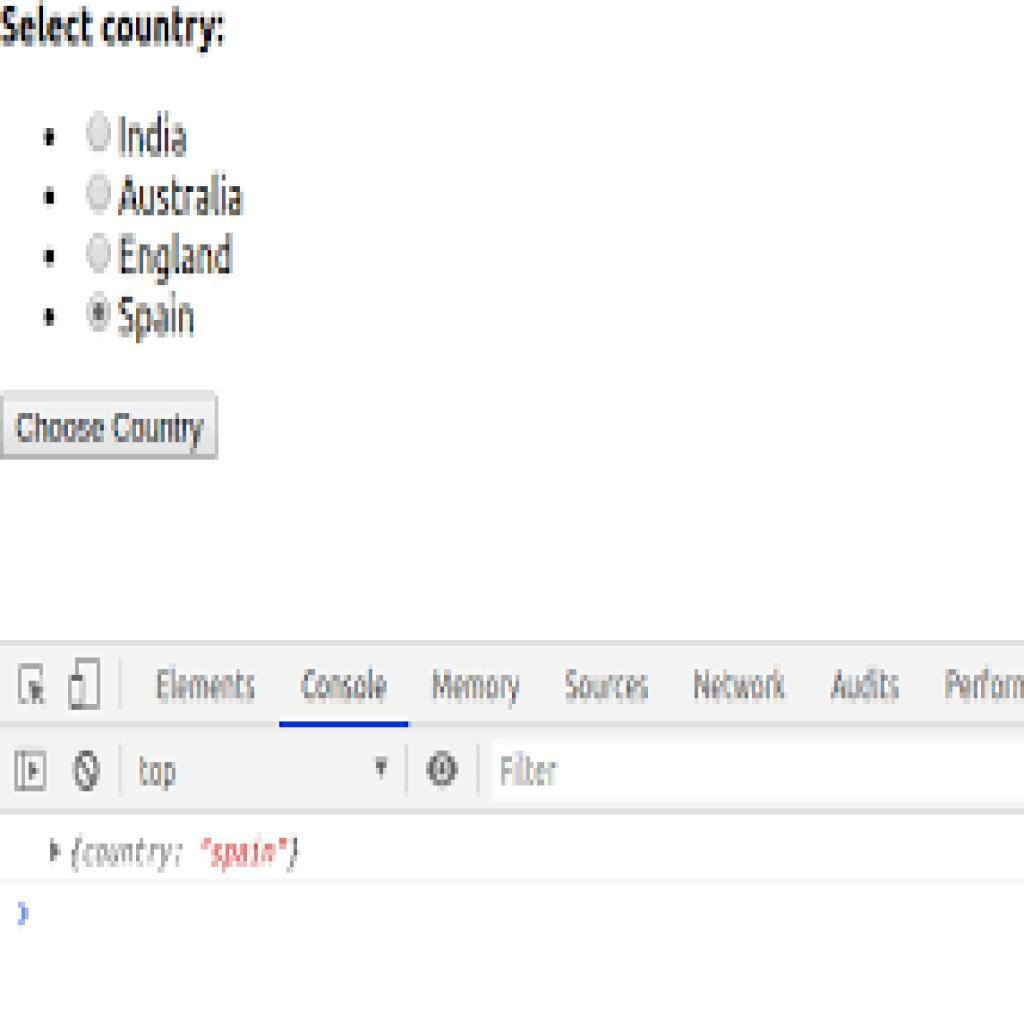button: (1, 390, 220, 460)
dropdown: (122, 727, 408, 812)
icon: (12, 660, 57, 714), (8, 747, 54, 796), (68, 654, 105, 713), (68, 748, 107, 802), (421, 750, 462, 788)
label: (120, 171, 254, 225), (120, 232, 241, 283), (114, 291, 208, 342), (120, 112, 192, 160)
radio: (84, 292, 118, 344), (84, 108, 116, 162), (84, 228, 116, 282), (85, 169, 115, 222)
